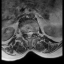CCS_normal: (28, 29, 30, 40)
LFS_normal: (33, 29, 35, 35)
LLS_normal: (30, 29, 33, 37)
RFS_normal: (23, 29, 26, 35)
RLS_normal: (26, 30, 28, 37)
